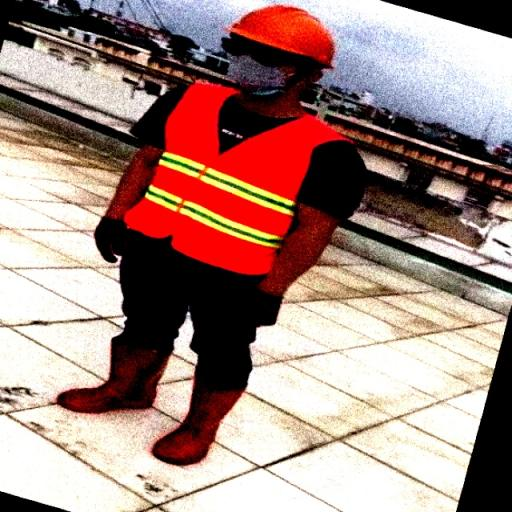Person: (64, 4, 370, 470)
boots: (60, 319, 178, 429), (148, 358, 262, 468)
gloves: (90, 198, 156, 274), (229, 266, 288, 340)
goggles: (207, 25, 308, 78)
helmet: (229, 4, 354, 74)
vest: (126, 88, 346, 309)
